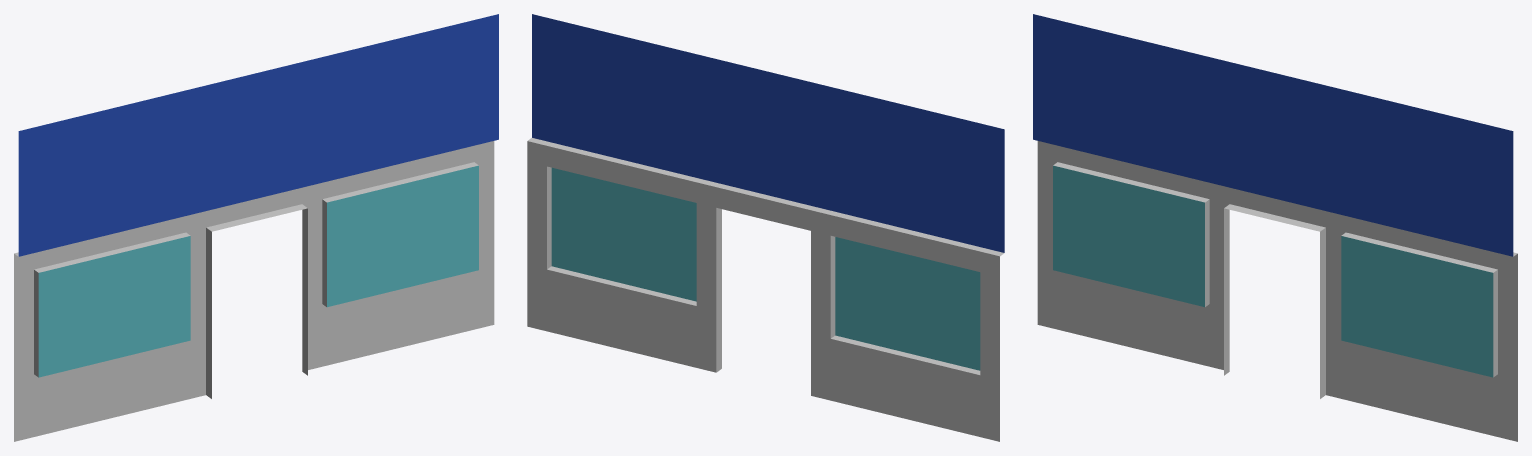
File: SM_Ext_ShopFront.fbx
3 renders of one model, left to right at view 1: azimuth 30°, elevation 25°; view 2: azimuth 150°, elevation 25°; view 3: azimuth 330°, elevation 25°, orthographic.
Parts seen in each view (by area): view 1: Box105; view 2: Box105; view 3: Box105.
Boxes of the visible parts, <box> form: Box105: <box>14,14,498,441</box>; Box105: <box>527,14,1004,441</box>; Box105: <box>1033,14,1517,441</box>.
Size of the model in its own units: 600 by 375 by 12.5.
